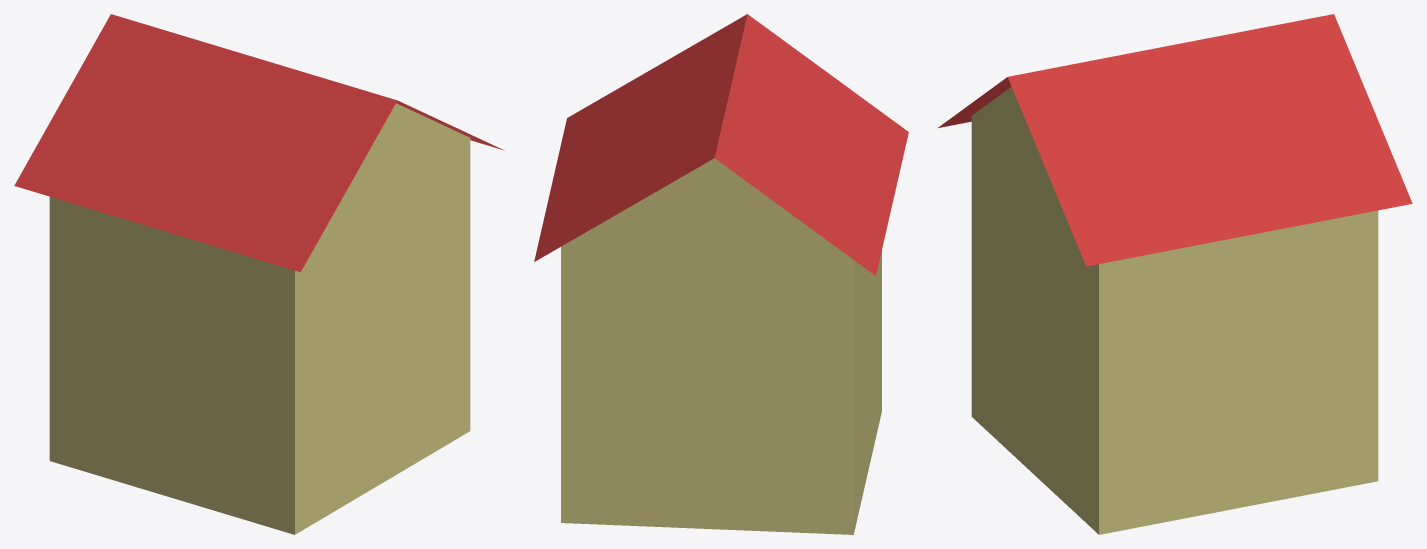
3 views of the same model, side by side, from view 1: azimuth 30°, elevation 25°; view 2: azimuth 150°, elevation 25°; view 3: azimuth 270°, elevation 25° (orthographic). The views are drawn at different scales.
Size of the model in its own units: 9.19 by 9.19 by 8.52.
